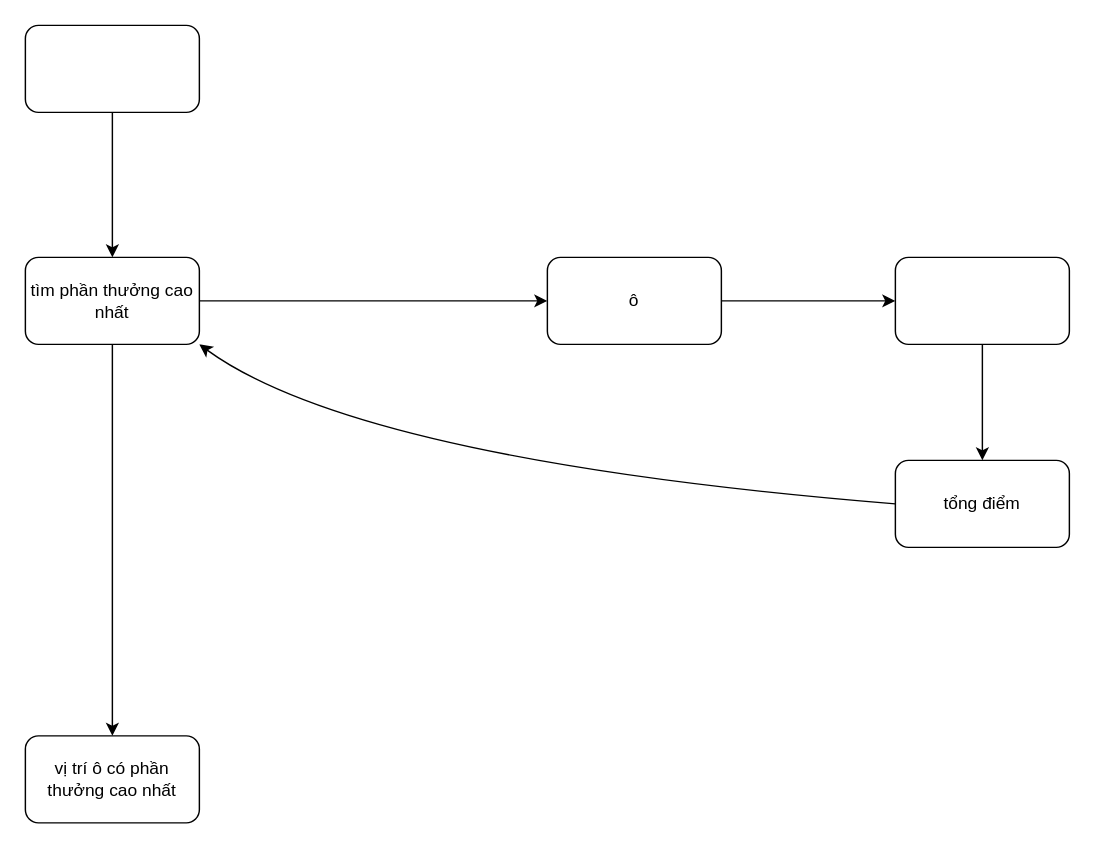
The diagram is 1095 pixels wide and 848 high, and some of its shapes have lost their labels. Each missing label, with the centre of its shape:
phần thưởng || hình phạt: (981,300)
x || o: (111,68)
